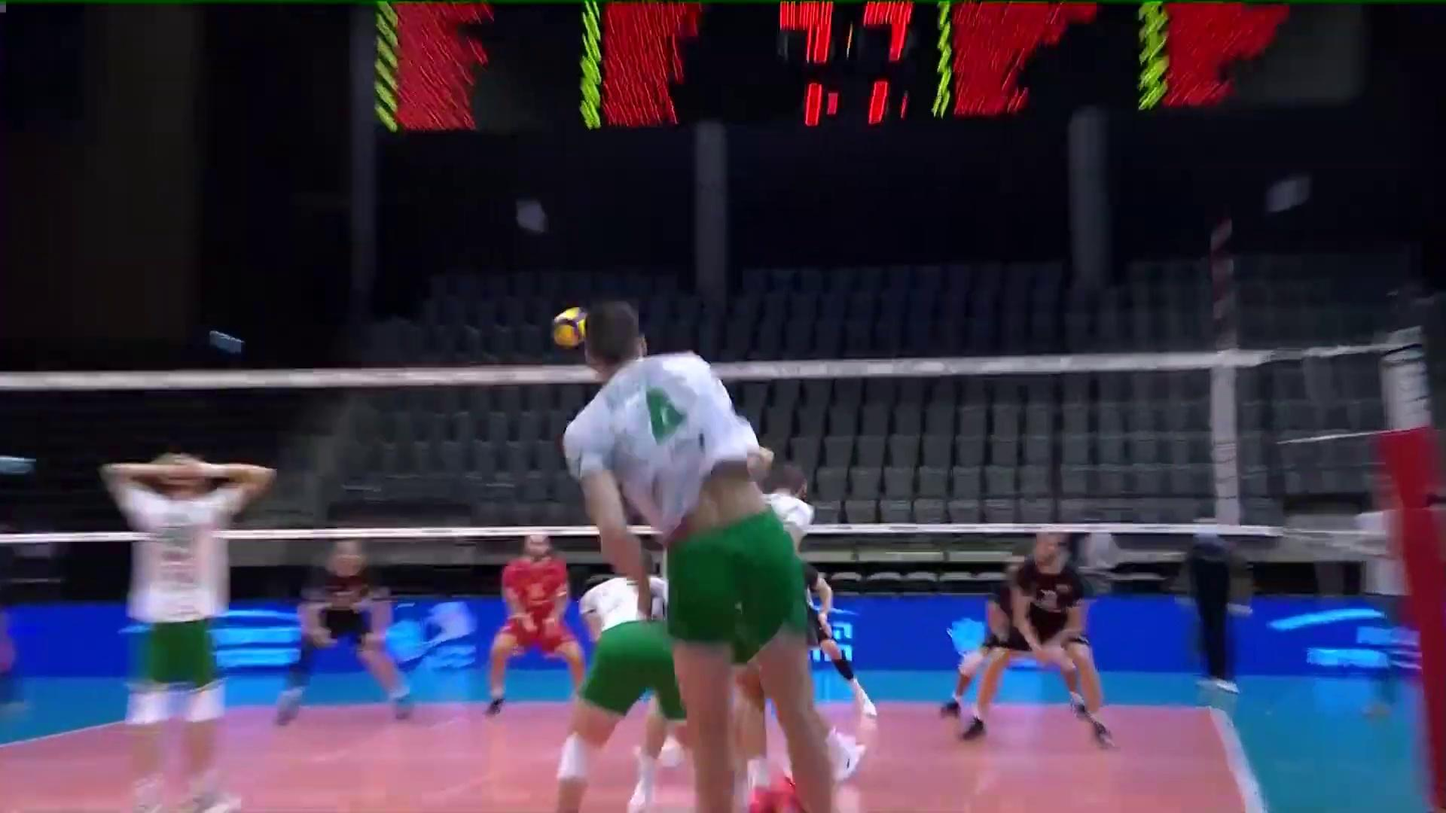ball: (553, 310, 590, 351)
